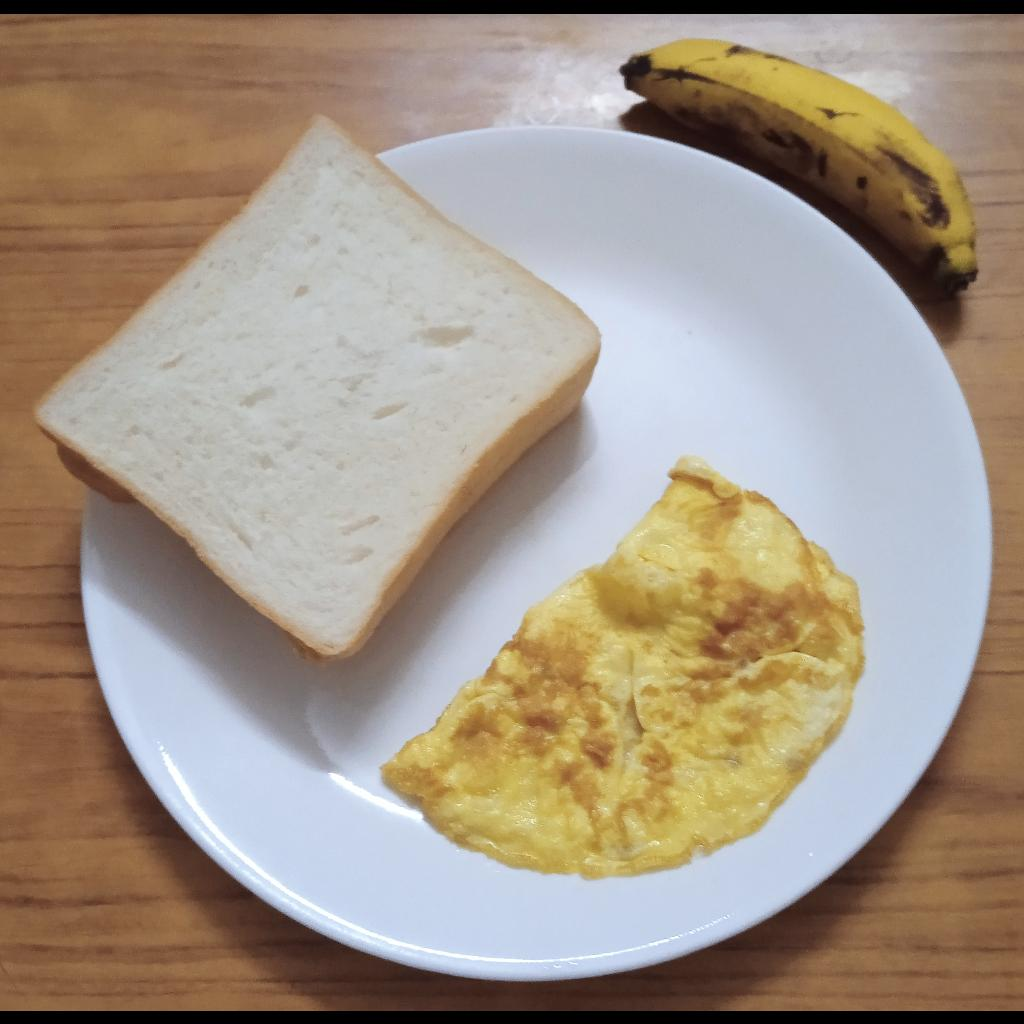banana: (624, 35, 978, 295)
bread: (31, 114, 605, 667)
egg-poached: (381, 455, 866, 879)
